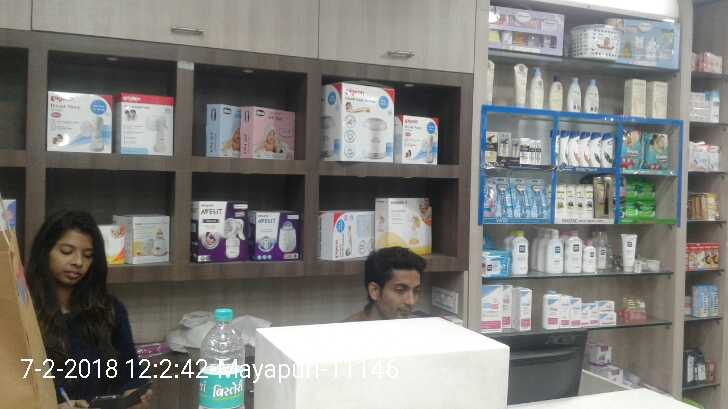venus: (528, 180, 548, 217), (495, 178, 512, 216), (512, 180, 528, 216), (484, 178, 495, 217)
